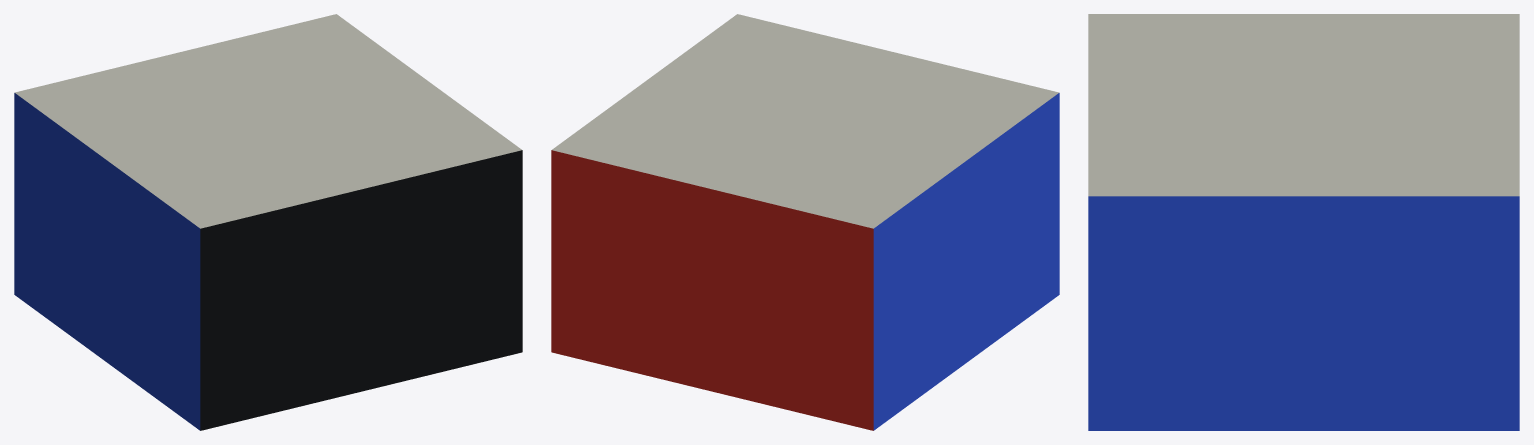
The model's file is mirror_room.obj.
3 views of the same model, side by side, from view 1: azimuth 30°, elevation 25°; view 2: azimuth 150°, elevation 25°; view 3: azimuth 270°, elevation 25° (orthographic). The views are drawn at different scales.
Size of the model in its own units: 4 by 2.4 by 4.
